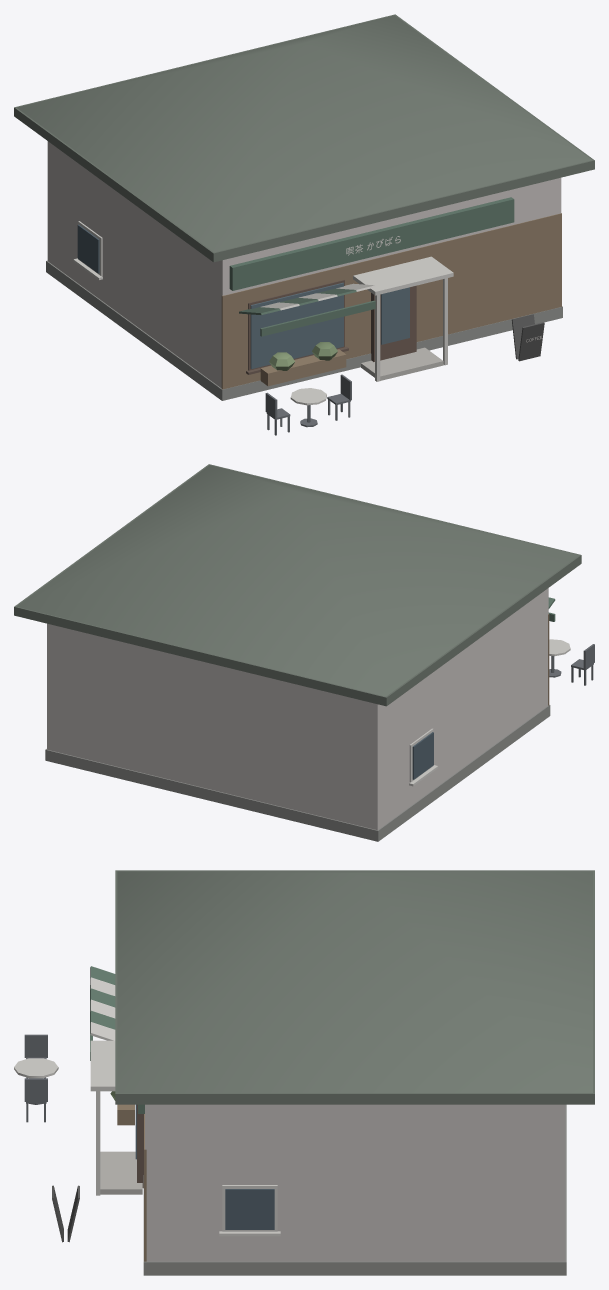
The model's file is shop_cafe.glb.
3 renders of one model, top to bottom at view 1: azimuth 30°, elevation 25°; view 2: azimuth 150°, elevation 25°; view 3: azimuth 270°, elevation 25°, orthographic. The views are drawn at different scales.
Visible parts, largest first — view 1: Static, Sign; view 2: Static; view 3: Static.
Boxes of the visible parts, x1,y1,x2,y2 form: Static: (14, 14, 594, 435); Sign: (229, 197, 514, 290); Static: (14, 464, 594, 841); Static: (14, 870, 594, 1275).
Size of the model in its own units: 10.7 by 6.75 by 11.75.
